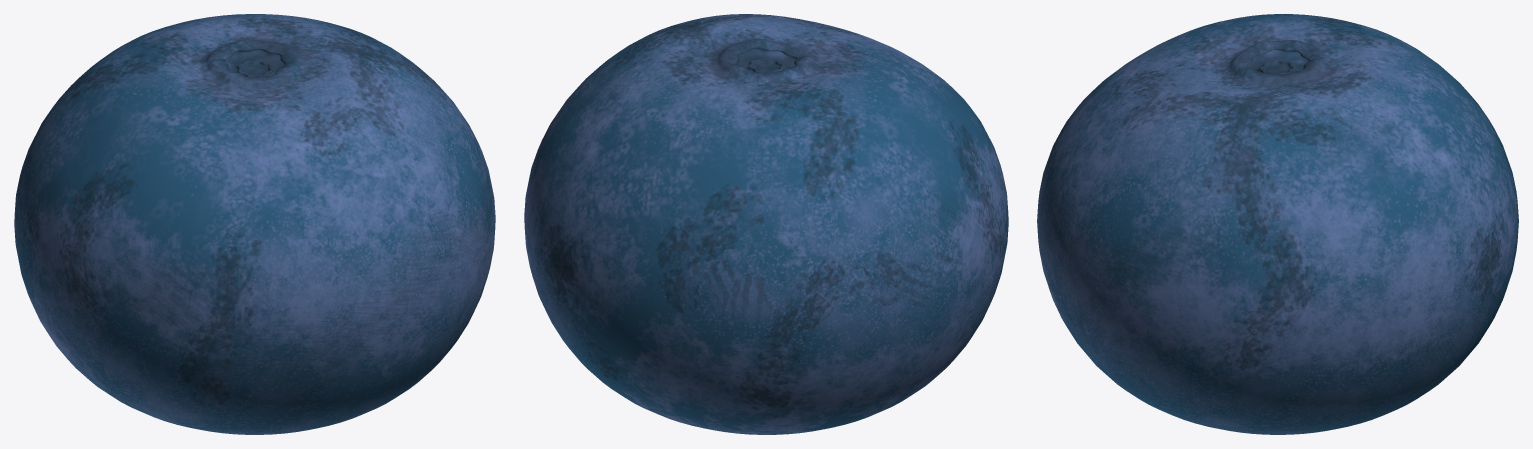
File: blueberry.glb
3 renders of one model, left to right at view 1: azimuth 30°, elevation 25°; view 2: azimuth 150°, elevation 25°; view 3: azimuth 270°, elevation 25°, orthographic.
Visible parts, largest first — view 1: Blueberry_0; view 2: Blueberry_0; view 3: Blueberry_0.
Boxes of the visible parts, x1,y1,x2,y2 form: Blueberry_0: [14, 14, 495, 434]; Blueberry_0: [524, 14, 1008, 434]; Blueberry_0: [1037, 14, 1518, 434].
Size of the model in its own units: 1.16 by 0.9249 by 1.16.
Materials: 1 (1 with a texture image).
